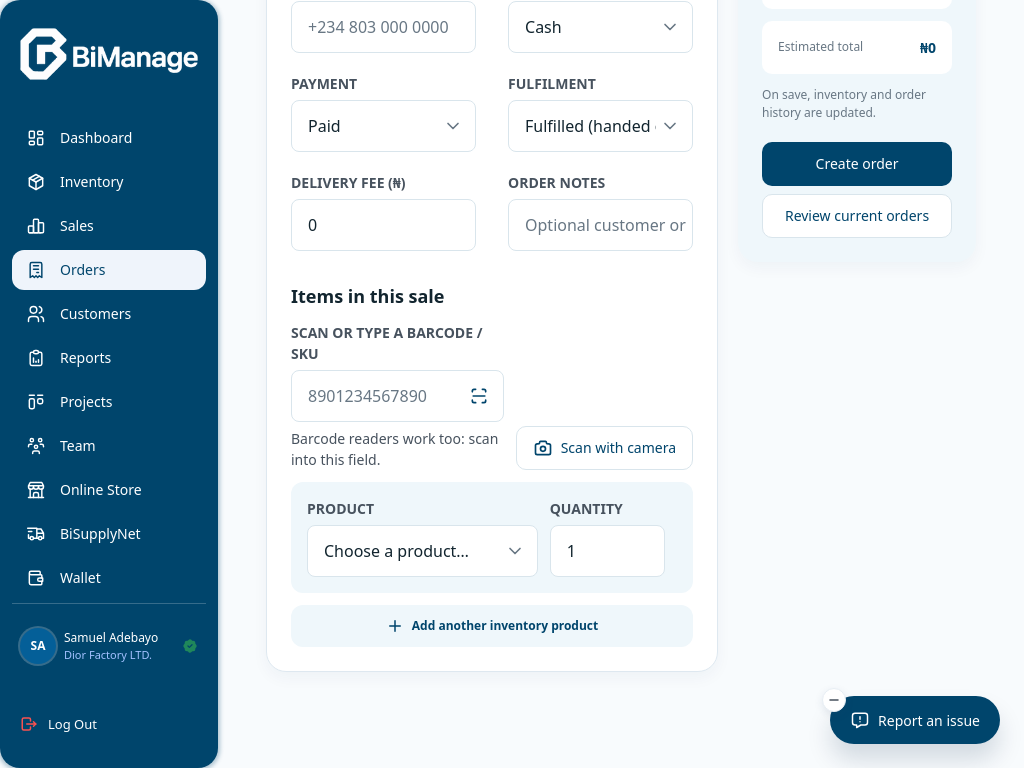
Test: scanning into a new order › a barcode reader typing a QR link: only a product code is used
The width and height of the screenshot is (1024, 768).
(page scrolled)
Type "https://www.instagram.com/x" into the field labelled "Scan or type a barcode / SKU". click: [384, 396]
box: [308, 370, 461, 420]
Then press Enter
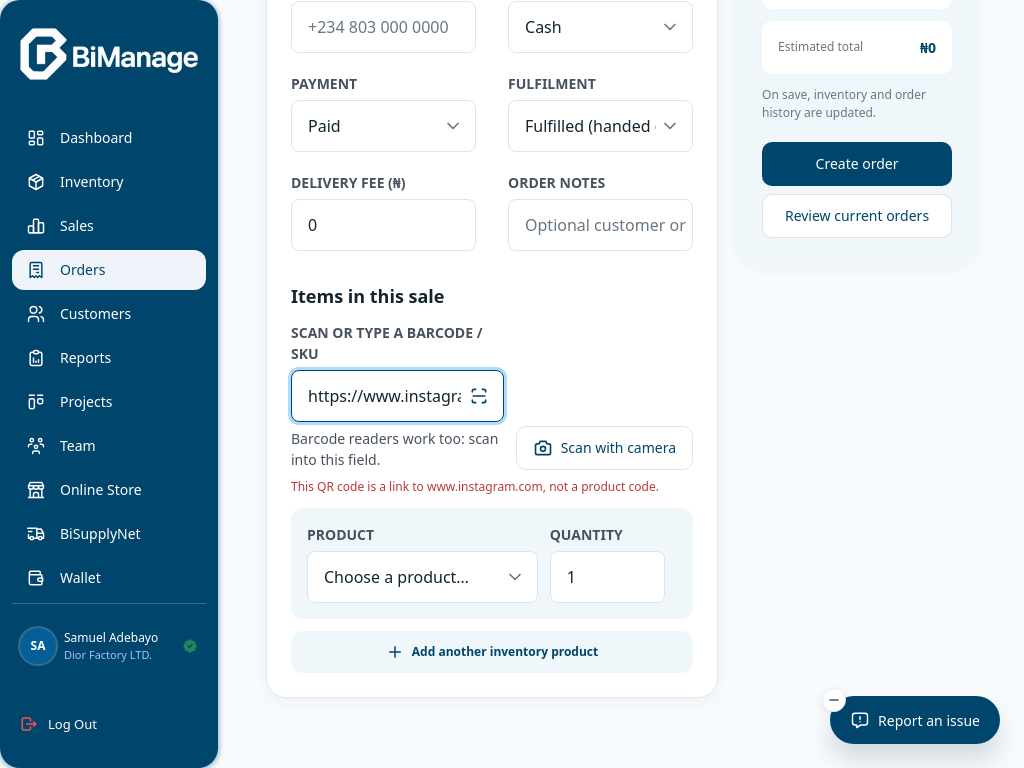
expect the dropdown labelled "Product" shows "Choose a product…": met, box [324, 552, 525, 602]
expect the text "This QR code is a link to www.instagram.com, not a product code." is shown: met, box [291, 478, 693, 496]
Type "https://id.gs1.org/01/05901234123457" into the field labelled "Scan or type a barcode / SKU". click: [384, 396]
box: [308, 370, 461, 420]
Then press Enter
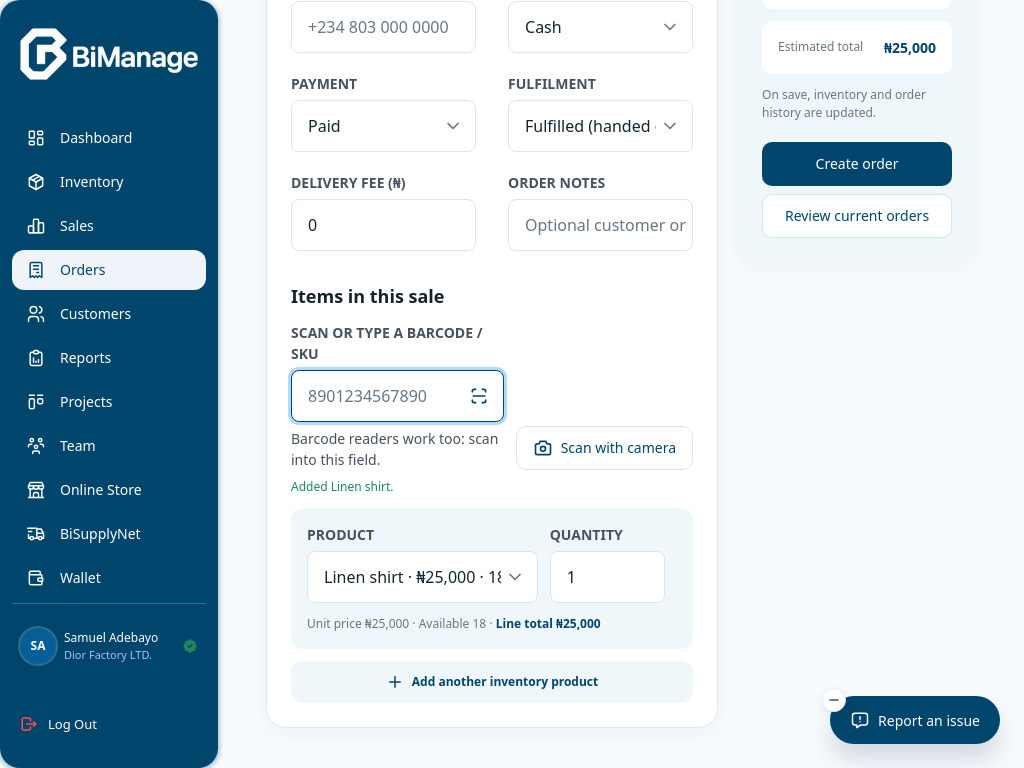
expect the text "Added Linen shirt." is shown: met, box [291, 478, 394, 494]
